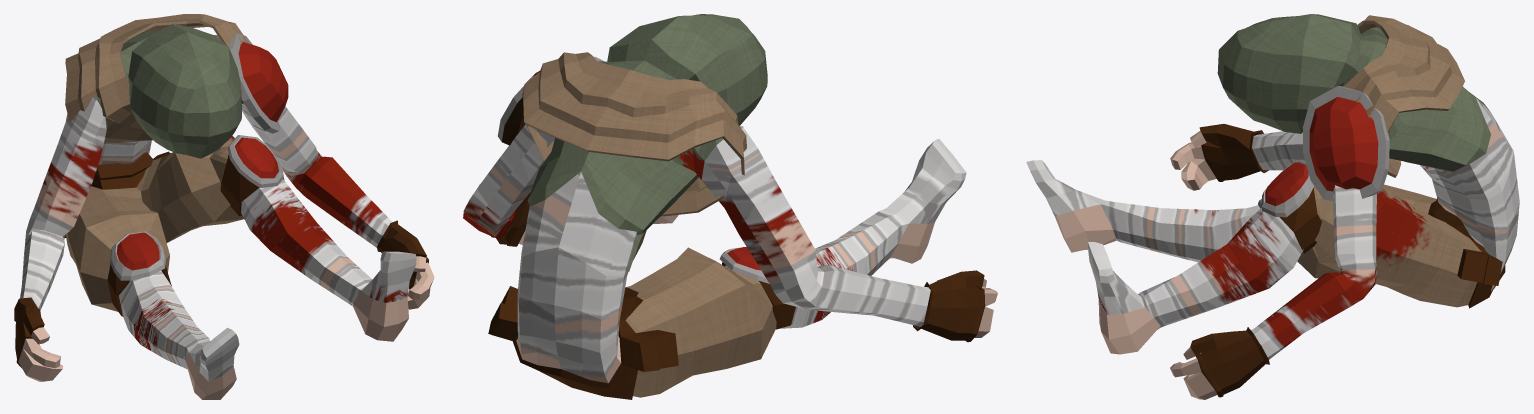
File: Cadavre 4.fbx
3 views of the same model, side by side, from view 1: azimuth 30°, elevation 25°; view 2: azimuth 150°, elevation 25°; view 3: azimuth 270°, elevation 25° (orthographic). The views are drawn at different scales.
Visible parts, largest first — view 1: Cube; view 2: Cube; view 3: Cube.
Boxes of the visible parts, bbox=[...] form: Cube: bbox=[14, 14, 434, 399]; Cube: bbox=[463, 14, 997, 399]; Cube: bbox=[1026, 14, 1519, 399].
Bounding box in the file's own units: 187 × 123 × 187.
